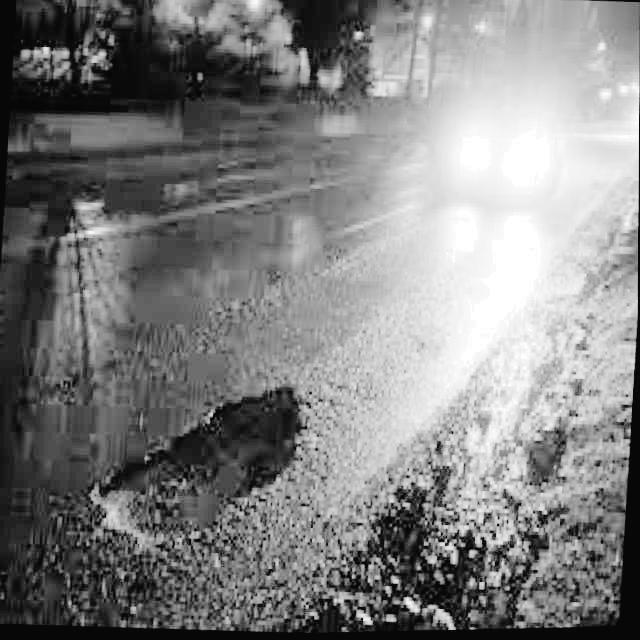Pothole: (88, 382, 307, 544)
